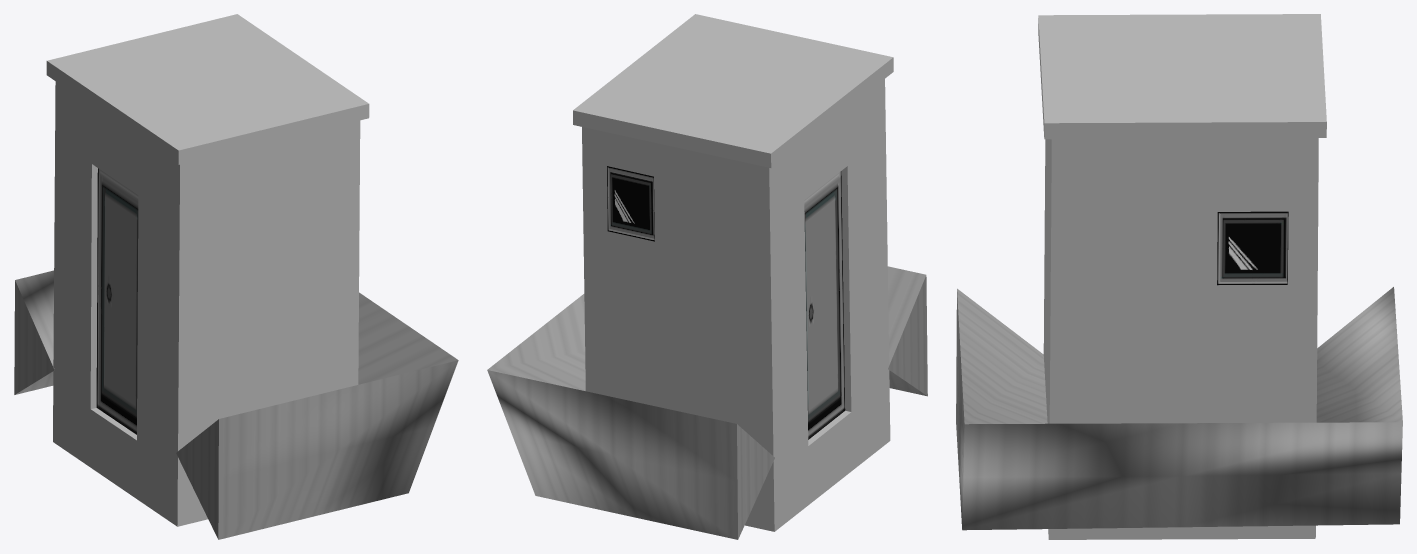
The model's file is Budka_1.fbx.
3 views of the same model, side by side, from view 1: azimuth 30°, elevation 25°; view 2: azimuth 150°, elevation 25°; view 3: azimuth 270°, elevation 25° (orthographic). The views are drawn at different scales.
Parts seen in each view (by area): view 1: Budka_1; view 2: Budka_1; view 3: Budka_1.
Part boxes in pixels (x1,y1,x2,y2): Budka_1: (14, 14, 458, 539); Budka_1: (487, 14, 927, 539); Budka_1: (956, 14, 1402, 539).
Bounding box in the file's own units: 2.56 × 3.7 × 3.52.
